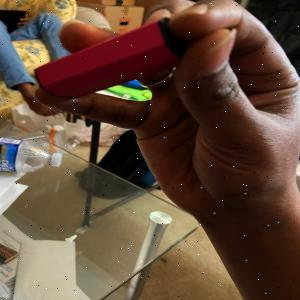Blume-E-Ciggirate: (30, 12, 211, 99)
